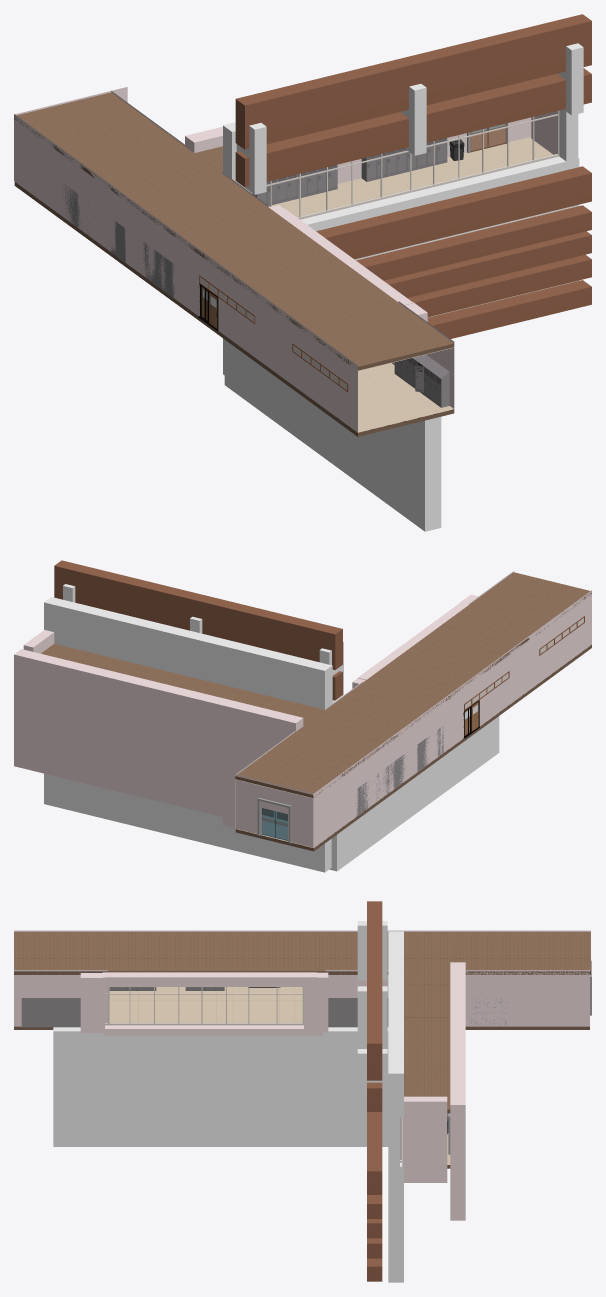
The model's file is RiscuitsHallwayVersion1.gltf.
The picture shows the model from 3 angles, top to bottom: view 1: azimuth 30°, elevation 25°; view 2: azimuth 150°, elevation 25°; view 3: azimuth 270°, elevation 25°; orthographic projection. The views are drawn at different scales.
Parts seen in each view (by area): view 1: cuboid (×18); view 2: cuboid (×8); view 3: cuboid (×17).
Boxes of the visible parts, x1,y1,x2,y2 form: cuboid (×18): [185, 14, 591, 531]; cuboid (×8): [14, 560, 499, 872]; cuboid (×17): [53, 901, 465, 1282].
Bounding box in the file's own units: 27.69 × 17.09 × 37.06.
21 materials, 20 textured.
